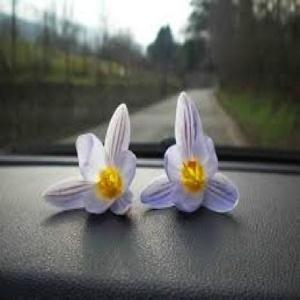Saffron: (143, 91, 241, 216), (40, 105, 134, 217)
